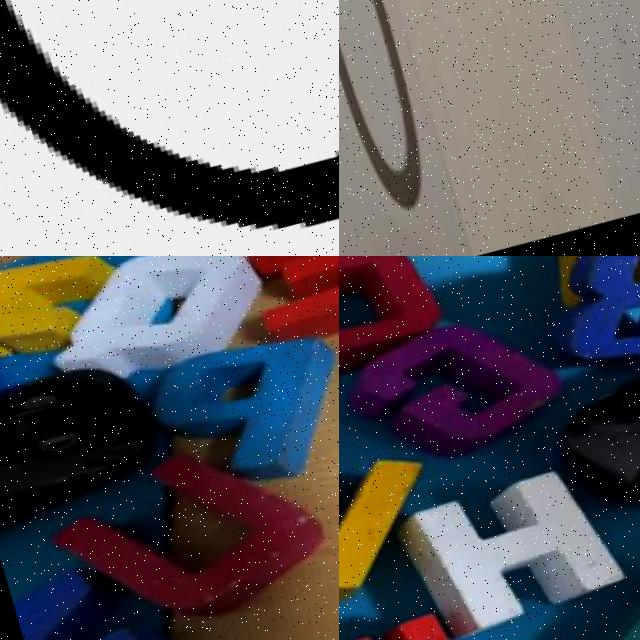0: (339, 0, 462, 239)
B: (539, 256, 640, 376)
E: (213, 256, 339, 370)
G: (344, 292, 564, 476)
H: (347, 442, 635, 640)
L: (339, 425, 482, 640)
M: (568, 512, 640, 640)
O: (339, 256, 460, 391)
P: (141, 301, 339, 519)
Q: (12, 256, 284, 404)
U: (61, 424, 339, 640)
